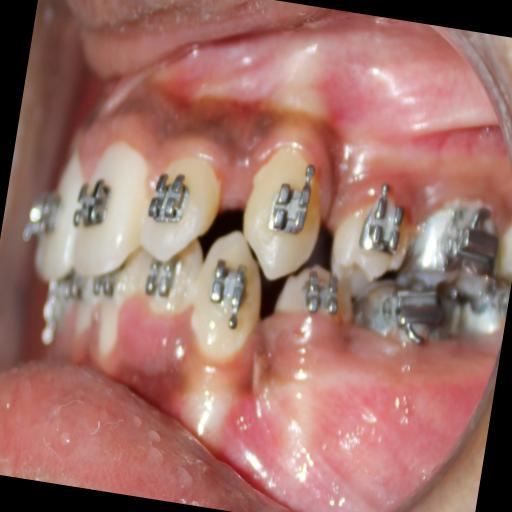correct_brace: (325, 184, 417, 306), (68, 164, 114, 241), (264, 186, 314, 238), (206, 260, 255, 313), (147, 167, 191, 226)
incorrect_brace: (140, 146, 226, 265), (355, 196, 412, 262)
